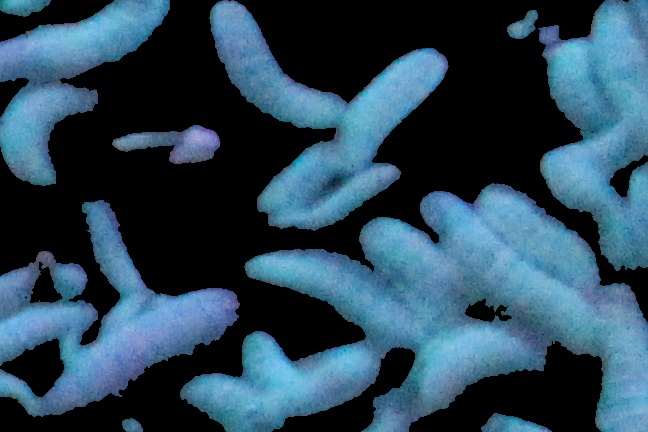larvae: (421, 192, 593, 350), (37, 288, 242, 411), (210, 1, 328, 147), (245, 244, 411, 344), (401, 325, 546, 418), (1, 1, 172, 77), (478, 185, 599, 289), (326, 49, 444, 147), (1, 88, 112, 191), (363, 219, 468, 310), (595, 283, 648, 432), (585, 1, 648, 120), (292, 165, 397, 233), (544, 39, 619, 132), (176, 372, 292, 432), (286, 343, 382, 411), (249, 142, 348, 205), (1, 300, 97, 363), (543, 143, 623, 207), (79, 207, 142, 286), (240, 331, 303, 403), (272, 198, 365, 236)
